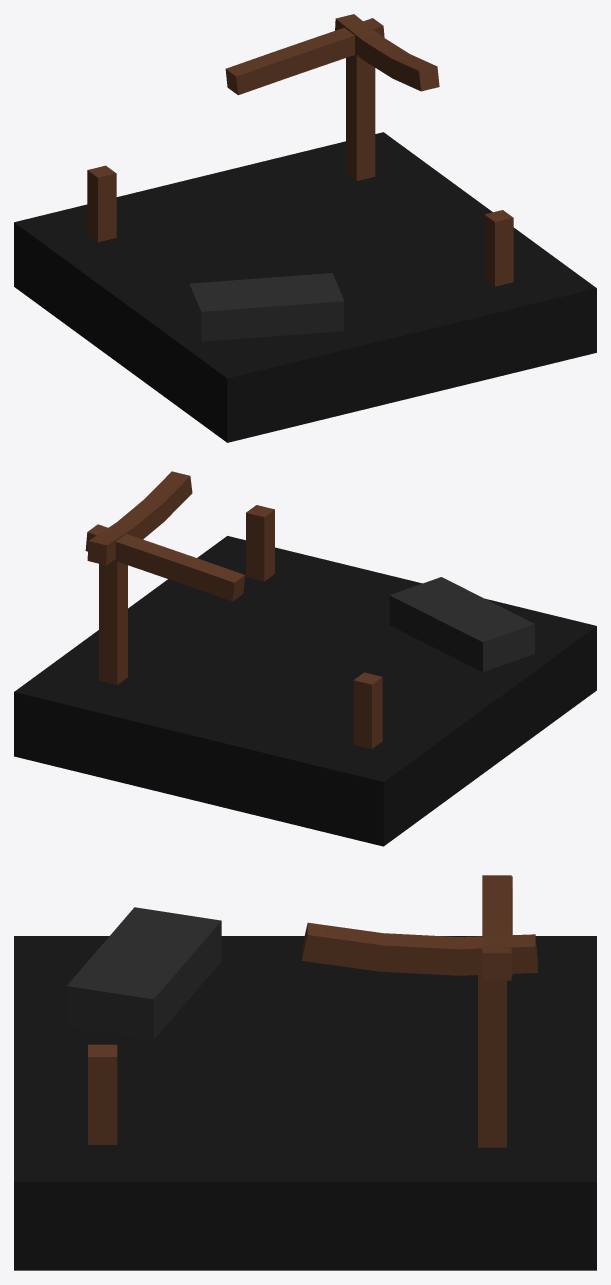
The picture shows the model from 3 angles, top to bottom: view 1: azimuth 30°, elevation 25°; view 2: azimuth 150°, elevation 25°; view 3: azimuth 270°, elevation 25°; orthographic projection. The views are drawn at different scales.
Parts seen in each view (by area): view 1: ground003, Box017, Box014, Box012, Box013, Box015, Box016; view 2: ground003, Box017, Box014, Box012, Box013, Box016, Box015; view 3: ground003, Box017, Box013, Box012, Box015, Box014.
Part boxes in pixels (box(x1,y1,x2,y2)): ground003: box(14, 132, 596, 442); Box017: box(189, 273, 344, 341); Box014: box(225, 18, 384, 95); Box012: box(346, 51, 375, 180); Box013: box(335, 14, 439, 91); Box015: box(484, 210, 513, 286); Box016: box(87, 165, 116, 242); ground003: box(14, 536, 596, 846); Box017: box(389, 577, 534, 671); Box014: box(85, 524, 245, 601); Box012: box(99, 560, 127, 684); Box013: box(87, 471, 192, 565); Box016: box(353, 672, 382, 748); Box015: box(246, 505, 274, 581); ground003: box(14, 936, 596, 1270); Box017: box(66, 907, 221, 1040); Box013: box(302, 922, 537, 975); Box012: box(478, 971, 506, 1147); Box015: box(88, 1044, 117, 1144); Box014: box(482, 875, 511, 980).
Bounding box in the file's own units: 118 × 67.27 × 118.
